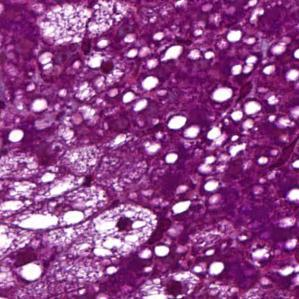ballooning: (61, 203, 160, 261)
